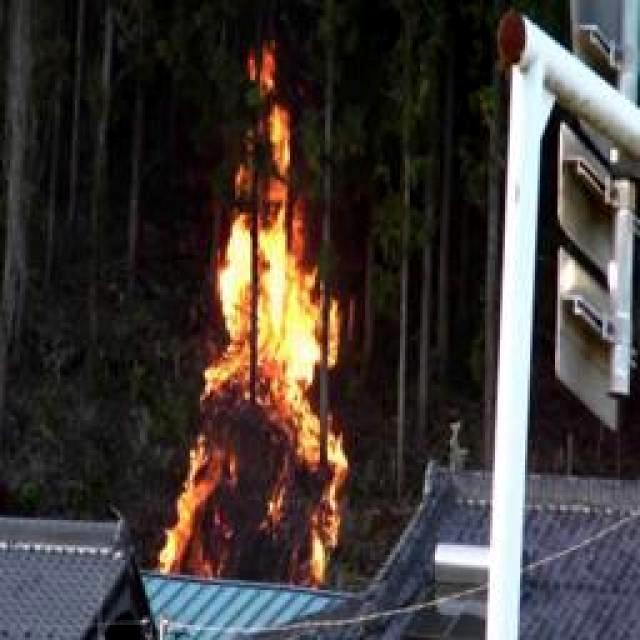fire: (162, 111, 350, 581)
